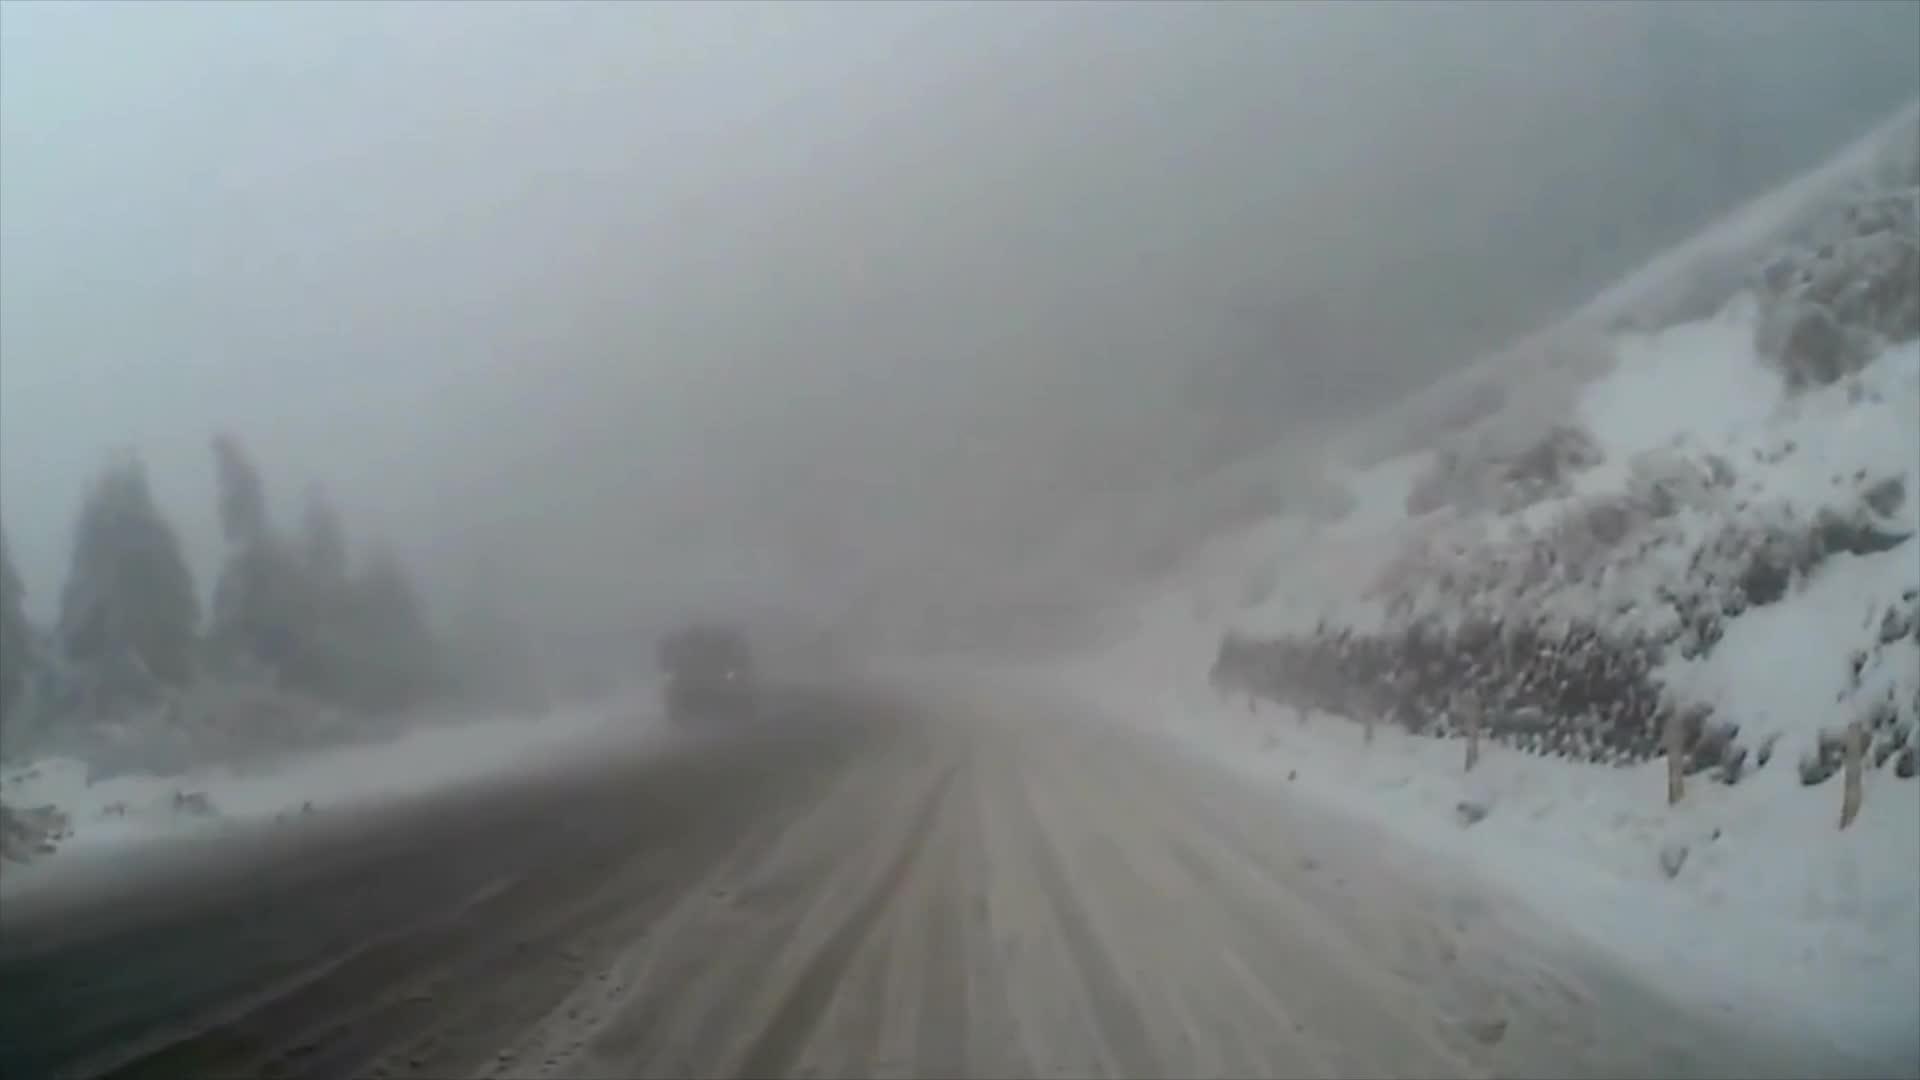vehicle: (651, 625, 758, 720)
